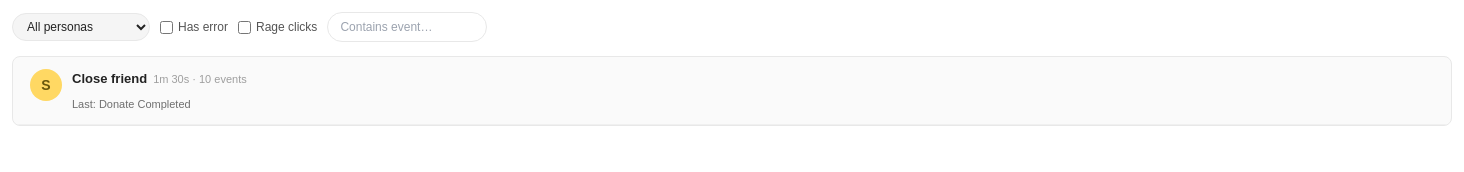
Test: ReplaySurface — CB-40 click and filter fixes › "Has error" checkbox ON filters out the session (errorCount=0) → empty state
Expected: the option with aria-label "sess-001" is shown, [13,57,1451,125]
Step 1. Click the checkbox labelled "Has error" → (166, 27), box [160,20,173,34]
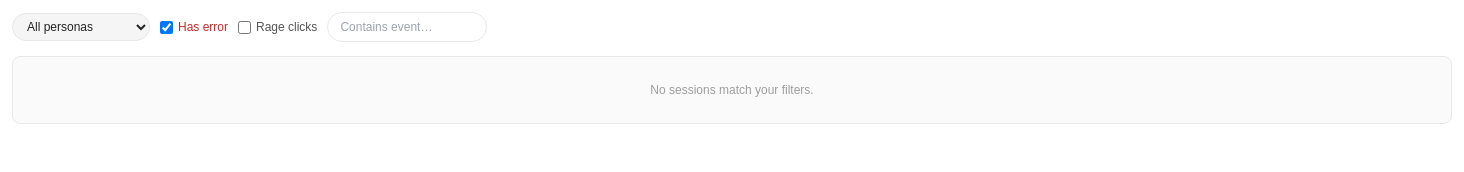
Now the text "No sessions match your filters." is shown, box [650,83,814,97]
